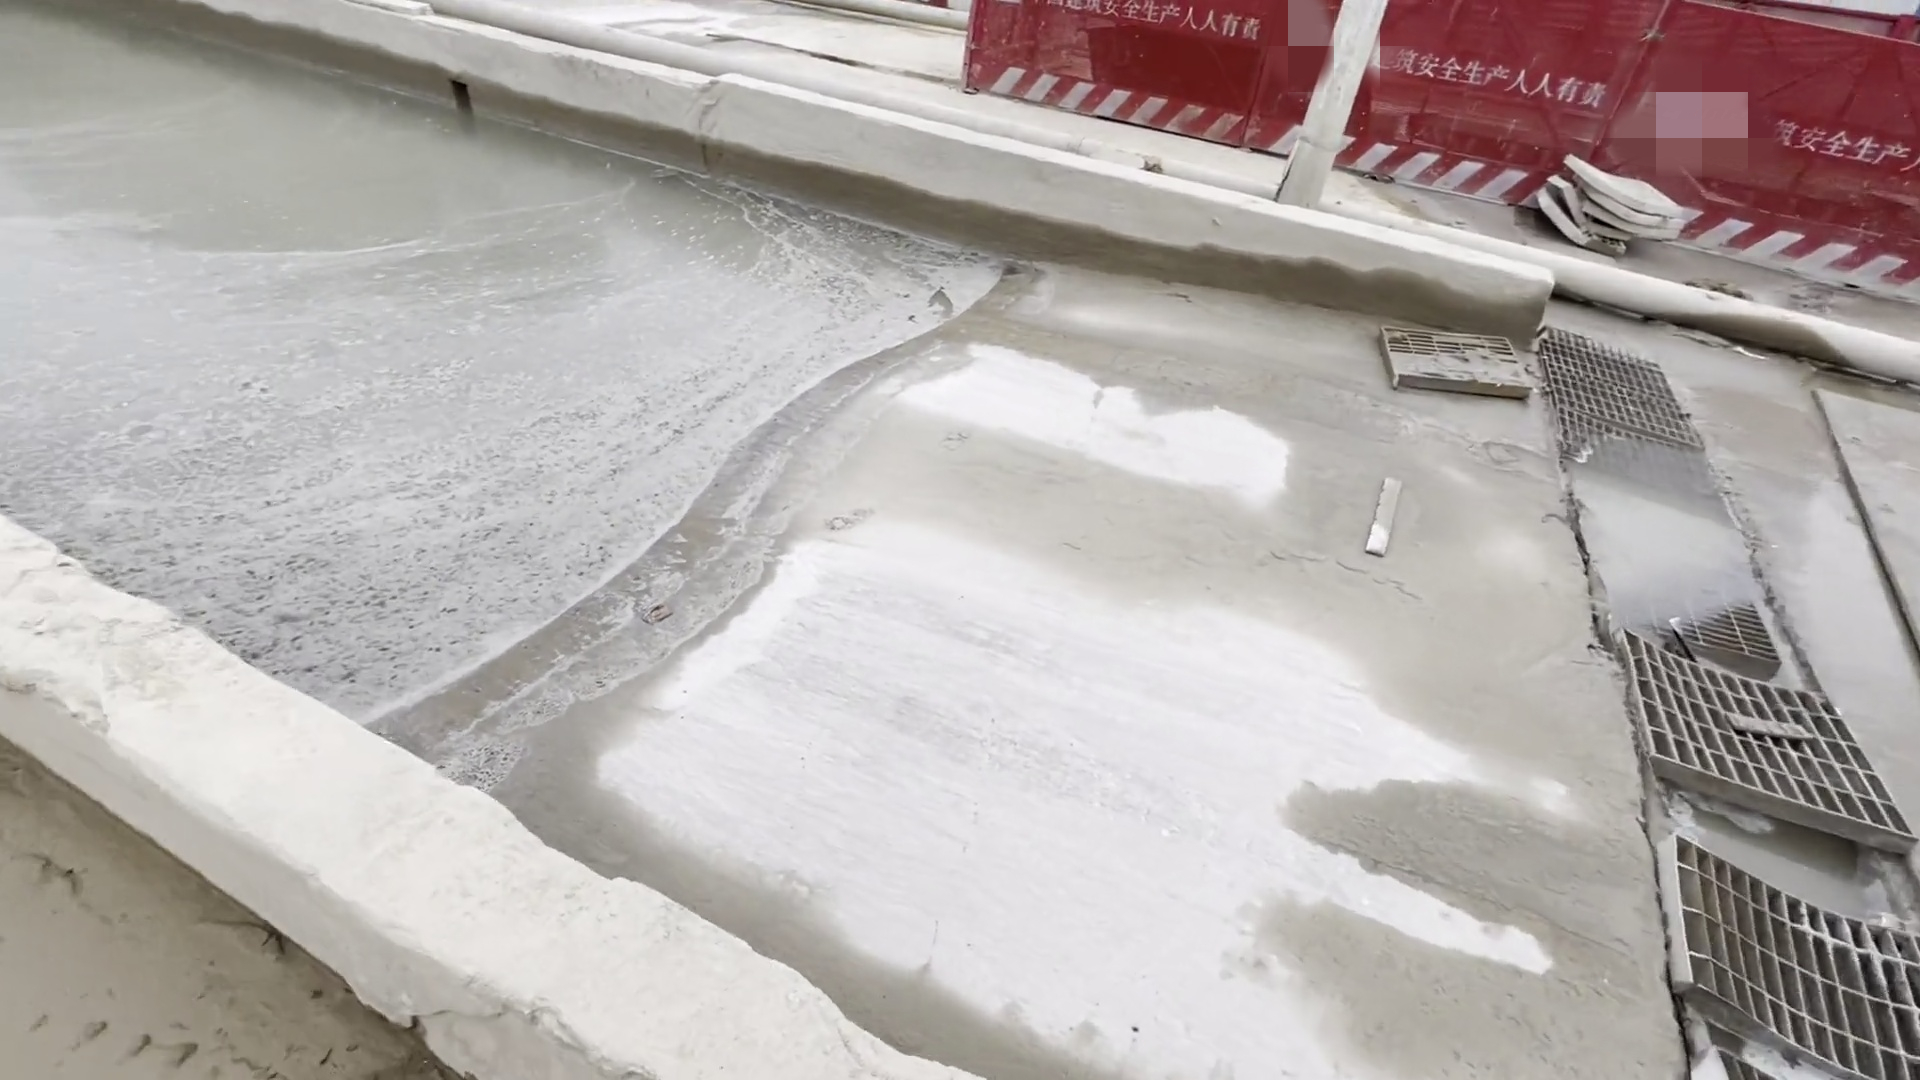fence: (1080, 1, 1902, 302)
